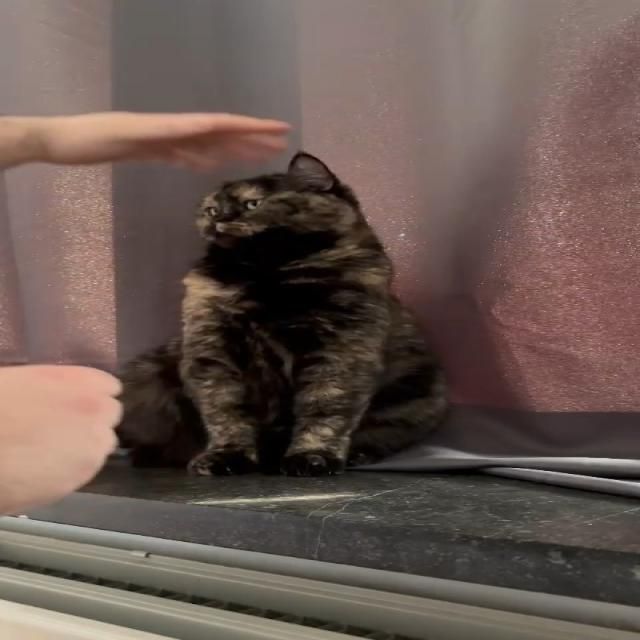authorized: (112, 149, 451, 477)
